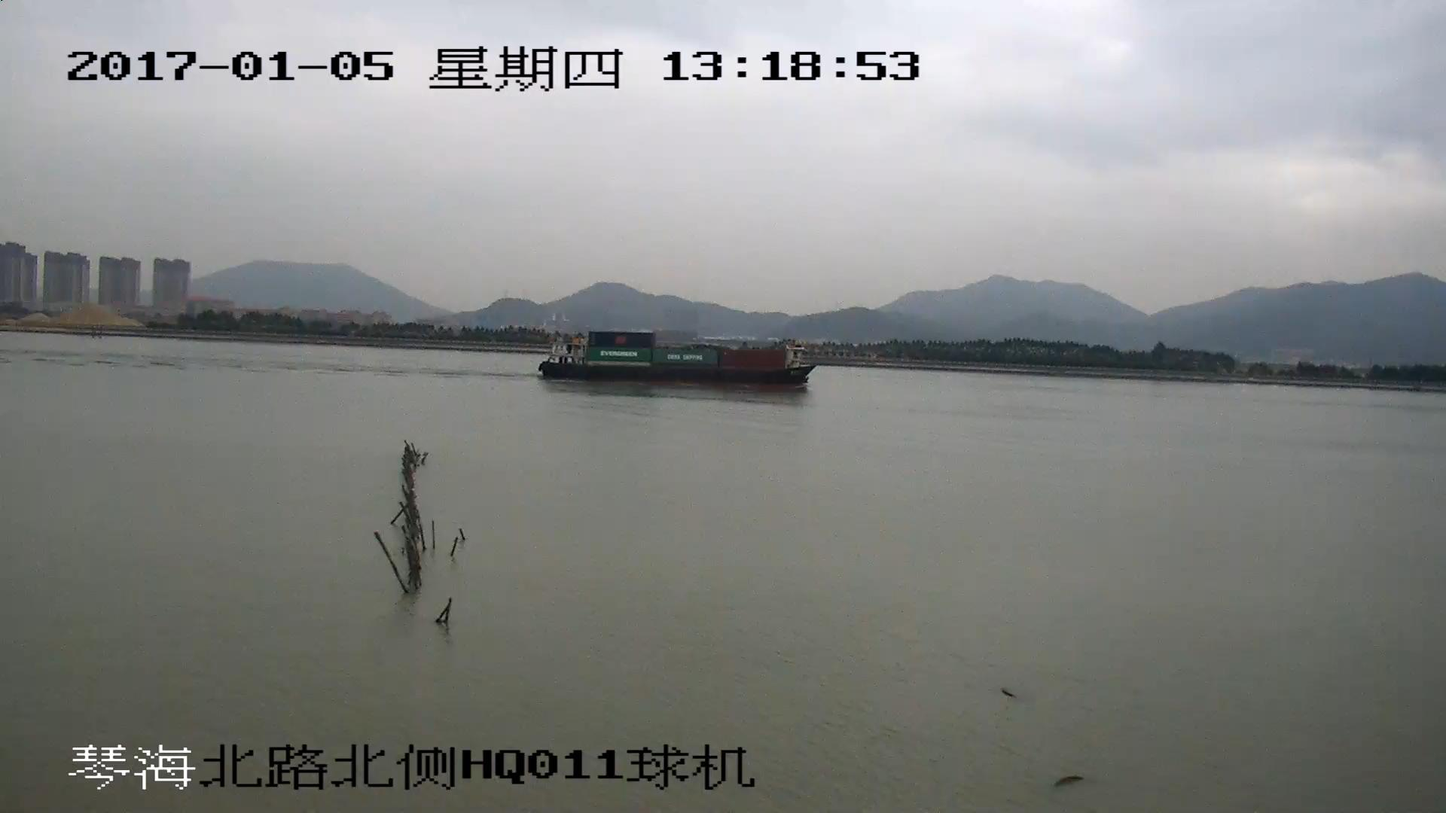container ship: (536, 328, 814, 388)
